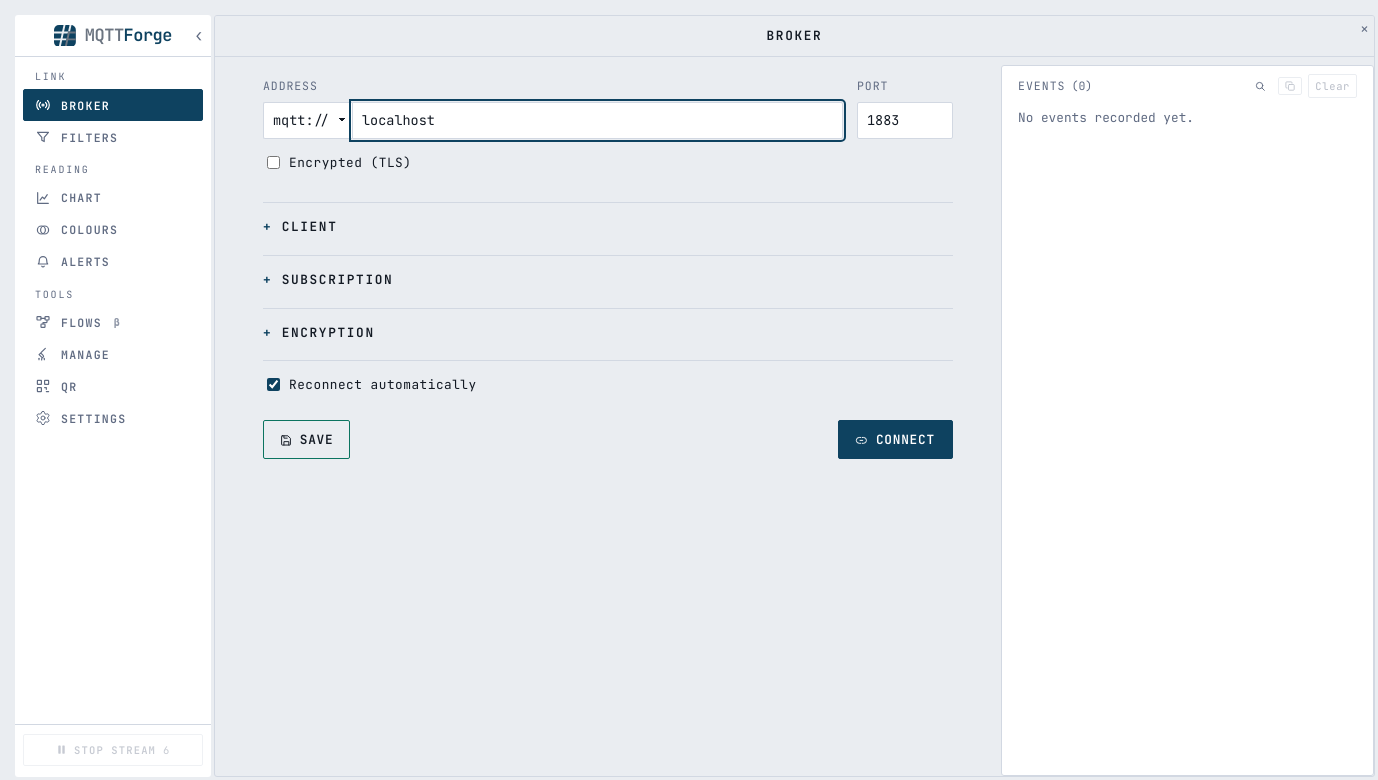
every control answers to the word printed on it › holds with the Filters panel open
The image size is (1378, 780).
Expected: the button named "Close Broker panel" is shown, top-left (1355, 16), bottom-right (1374, 38)
Click the button "Filters" at (113, 137), box top-left (23, 121), bottom-right (203, 153)
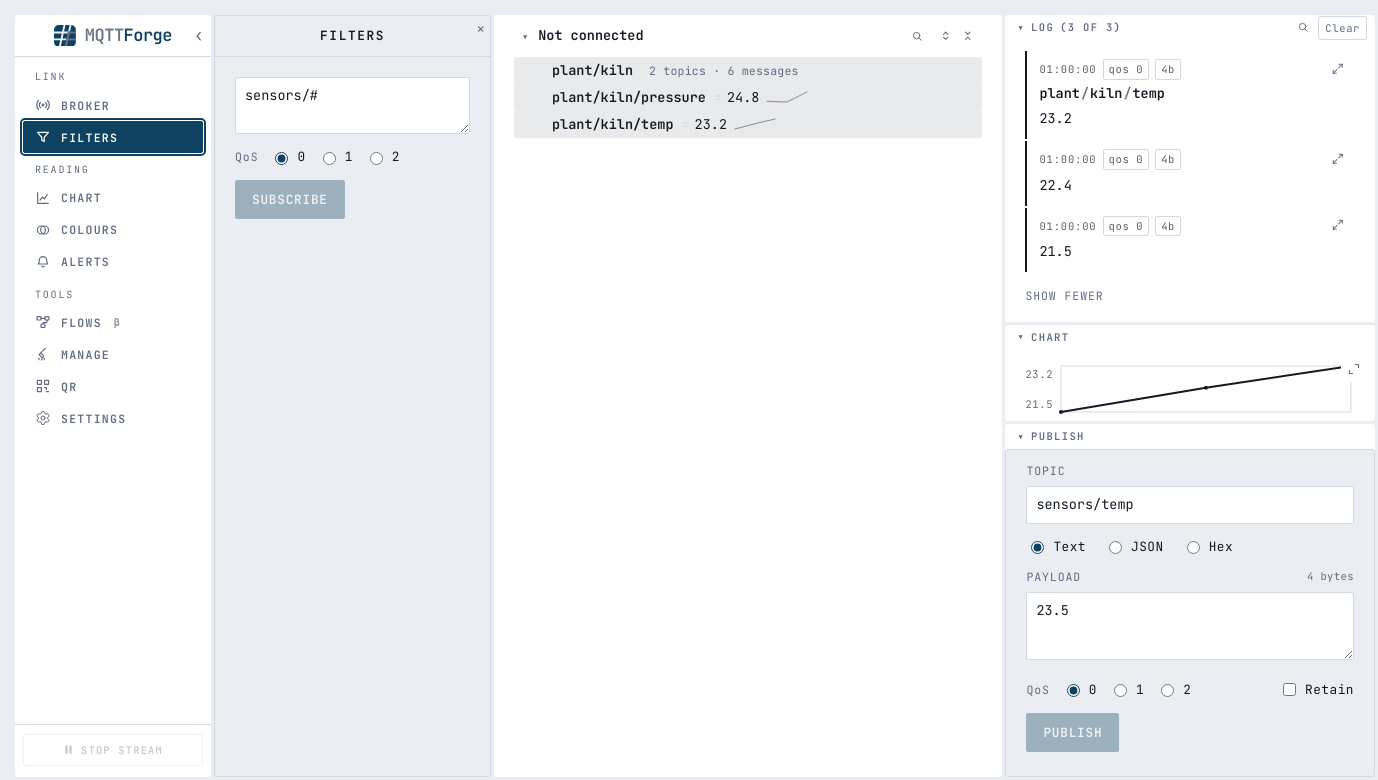
Now the element named "Filters panel" is shown, box top-left (214, 15), bottom-right (491, 777)
